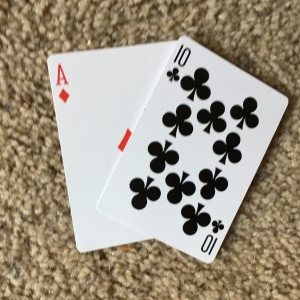card: (98, 35, 290, 265), (43, 48, 158, 251)
